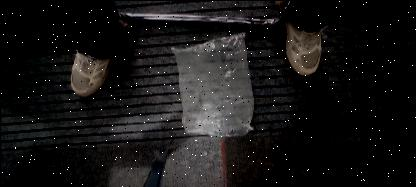Others: (171, 32, 253, 136)
